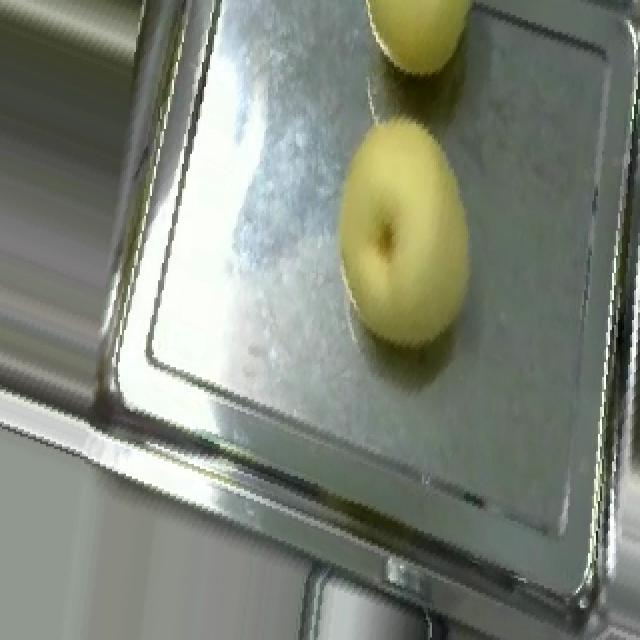Fruit: (302, 96, 496, 370), (334, 0, 498, 92)
